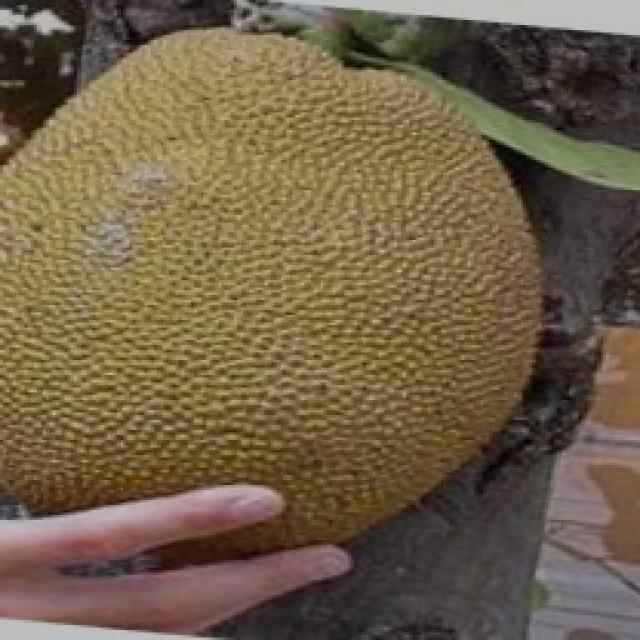Fruit: (0, 0, 400, 380), (240, 8, 588, 400)
